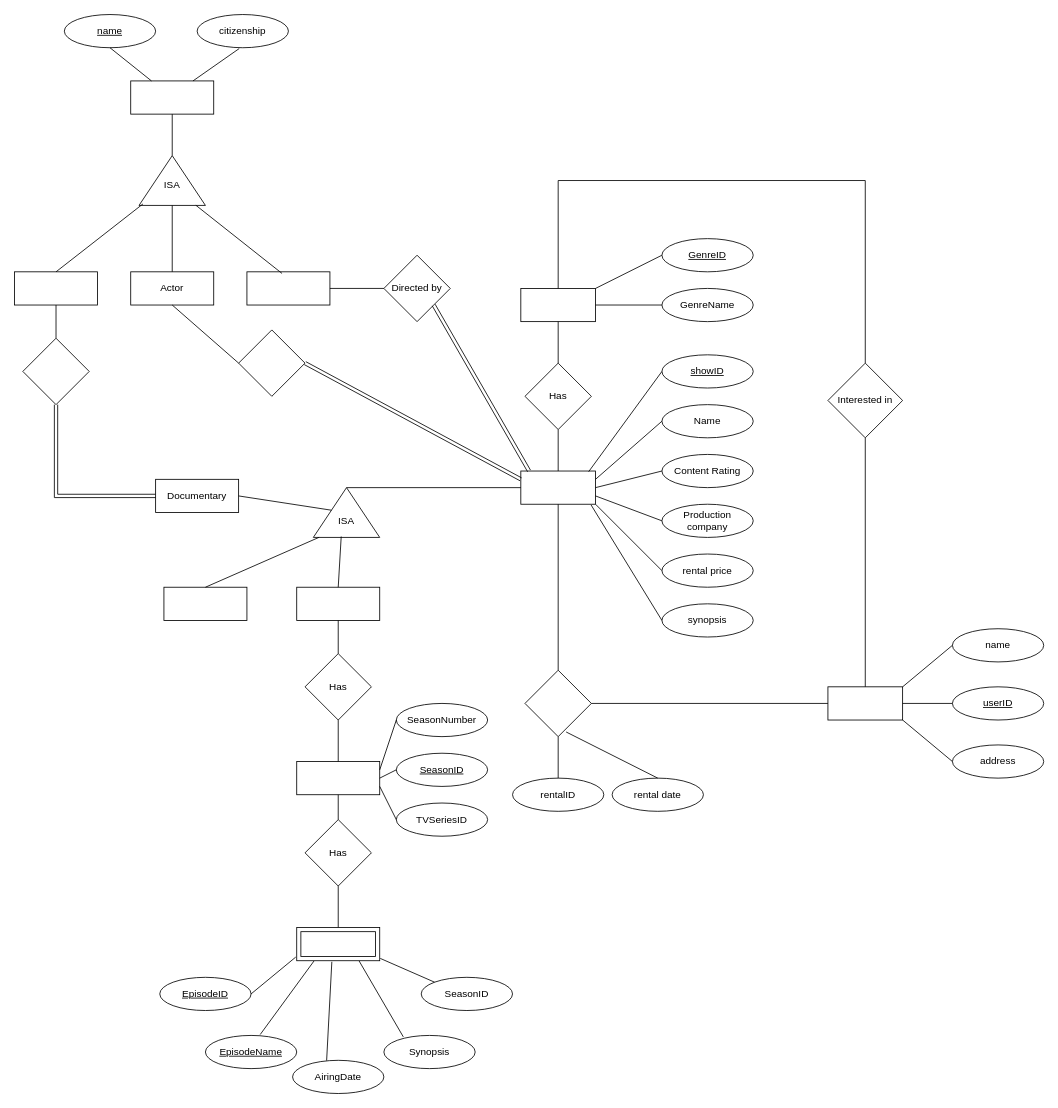
Image size: 1058x1108. Some labels were removed from this diagram. Here are the shapes that lost their labels. From the top down, the box of each, then its label:
(130, 80, 214, 114): Person
(14, 271, 98, 305): Narrator
(246, 271, 330, 305): Director
(520, 288, 596, 322): Genre
(22, 337, 89, 405): narrated by
(238, 329, 305, 396): Performed by
(520, 470, 596, 504): Show
(163, 586, 247, 620): Movie
(296, 586, 380, 620): TV Series
(524, 669, 591, 737): rent
(827, 686, 903, 720): User
(296, 761, 380, 795): Season
(296, 927, 380, 961): Episode
